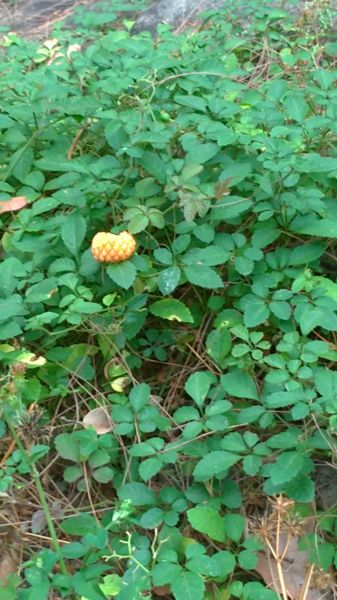eggs: (83, 226, 140, 266)
